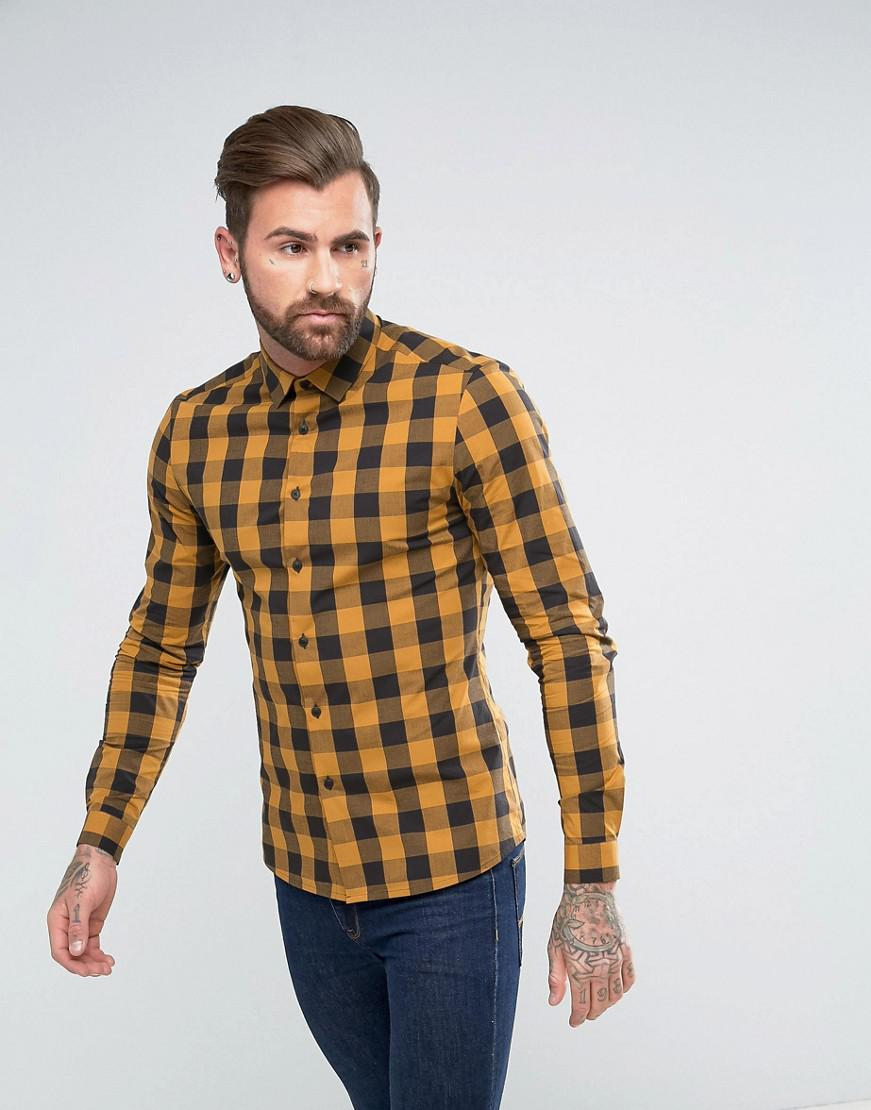teeshirt: (64, 310, 629, 900)
